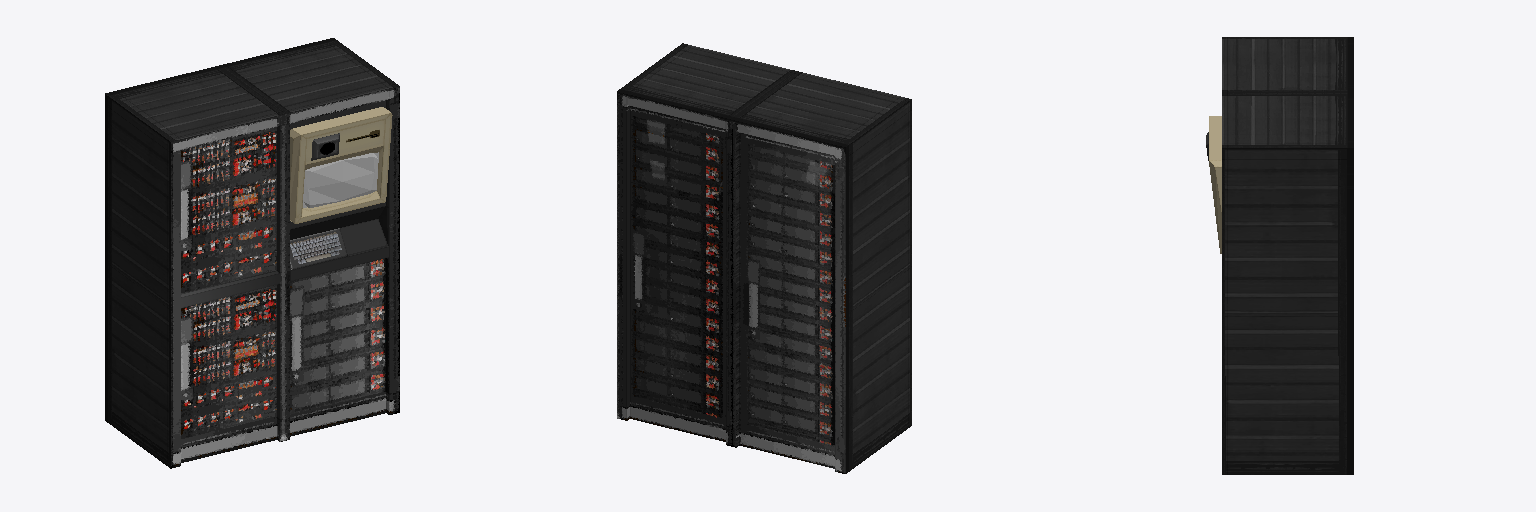
The picture shows the model from 3 angles: view 1: azimuth 30°, elevation 25°; view 2: azimuth 150°, elevation 25°; view 3: azimuth 270°, elevation 25°; orthographic projection.
Parts seen in each view (by area): view 1: VendingMachine; view 2: VendingMachine; view 3: VendingMachine.
Part boxes in pixels (bbox=[...]): VendingMachine: bbox=[105, 38, 399, 468]; VendingMachine: bbox=[617, 43, 911, 473]; VendingMachine: bbox=[1206, 37, 1353, 474].
Size of the model in its own units: 2.2 by 3 by 1.23.
Materials: 2 (1 with a texture image).